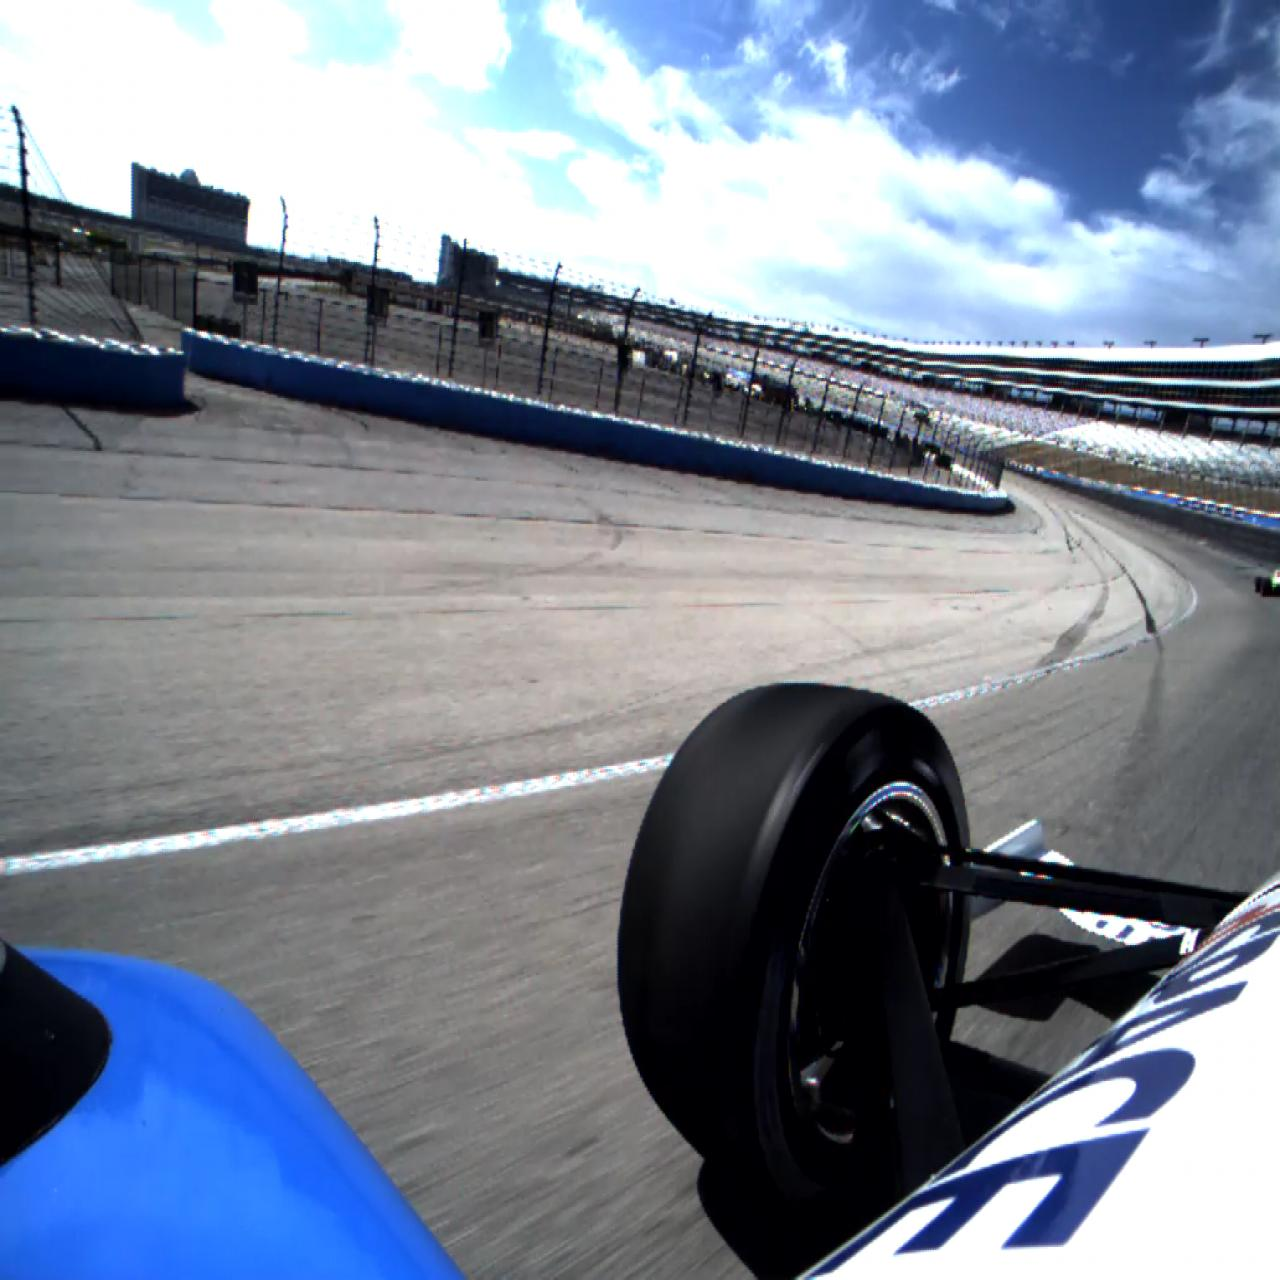AV: (1254, 566, 1280, 597)
Wheel: (619, 685, 973, 1194), (1261, 578, 1272, 597), (1254, 577, 1261, 593)
